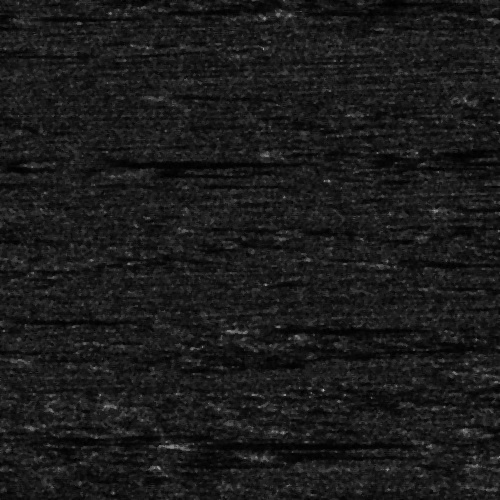object: (266, 4, 339, 19), (17, 156, 100, 163), (124, 167, 177, 176), (228, 450, 269, 457), (228, 325, 269, 330), (135, 91, 166, 96), (0, 316, 25, 319), (0, 13, 25, 16), (172, 439, 183, 444)
shadow: (303, 4, 429, 19), (178, 439, 500, 444), (151, 167, 306, 176), (59, 156, 245, 163), (249, 450, 398, 457), (249, 325, 403, 330), (151, 91, 269, 96), (9, 316, 148, 319), (10, 13, 120, 16)
